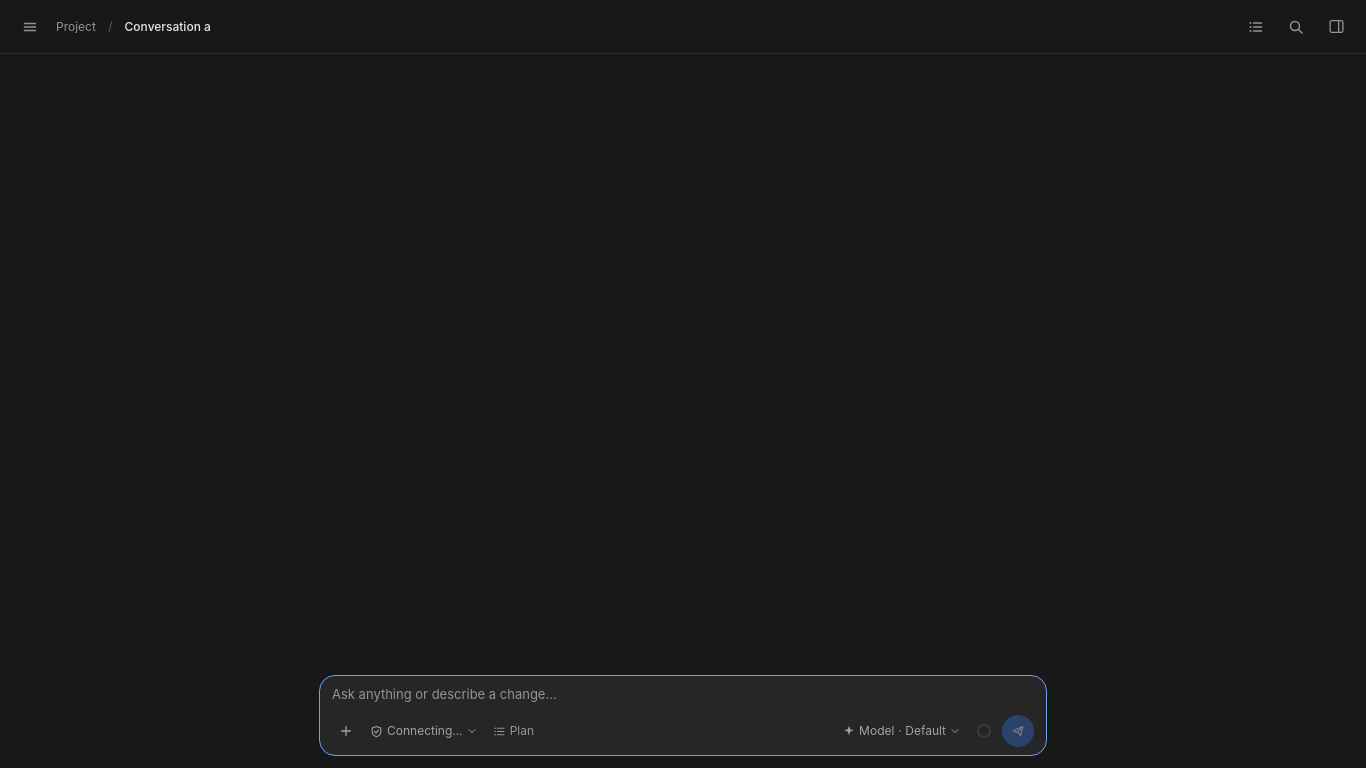
Scenario: marks externally changed open previews stale without replacing their body or composer draft
Type "retain draft" into the text box named "Chat input". click: (683,695)
box: [332,684,1034,706]
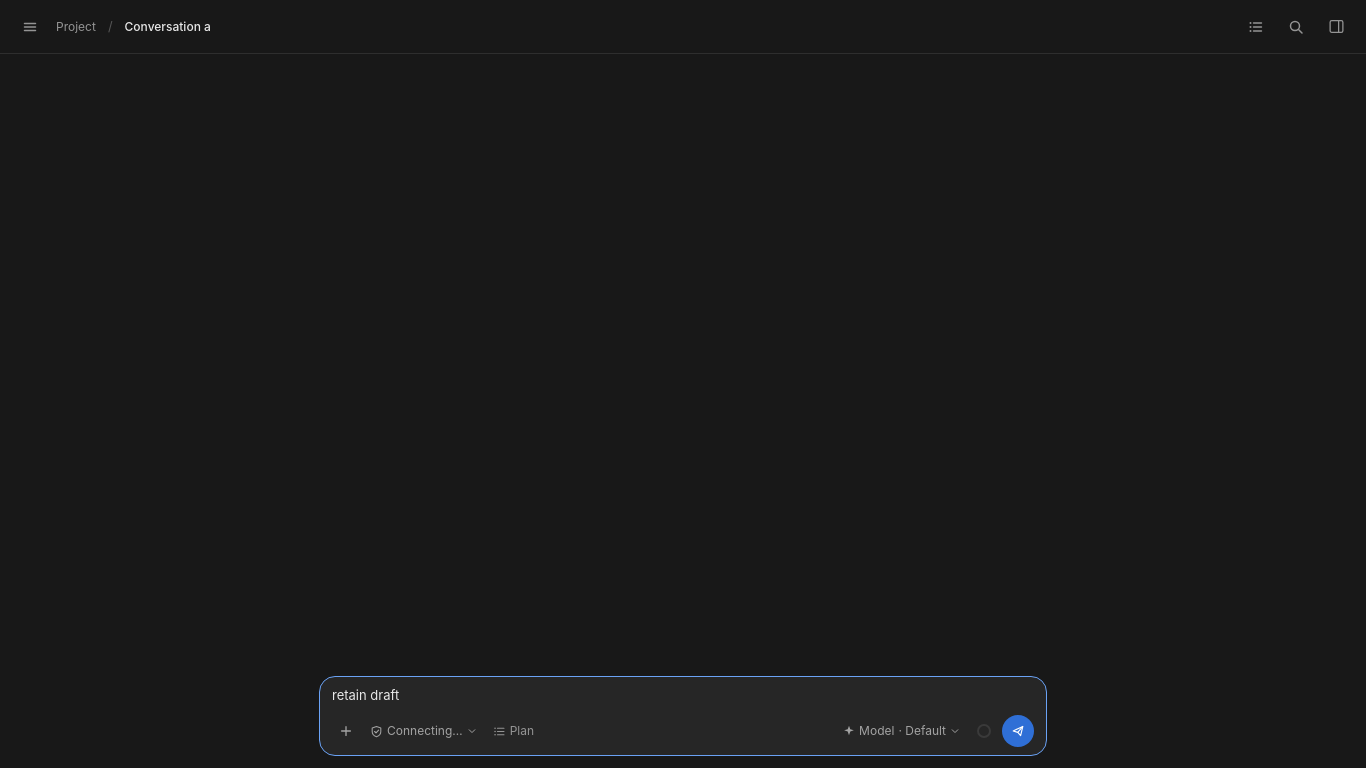
Click the button named "Open workspace". click: (1336,26)
box: [1322,12,1350,40]
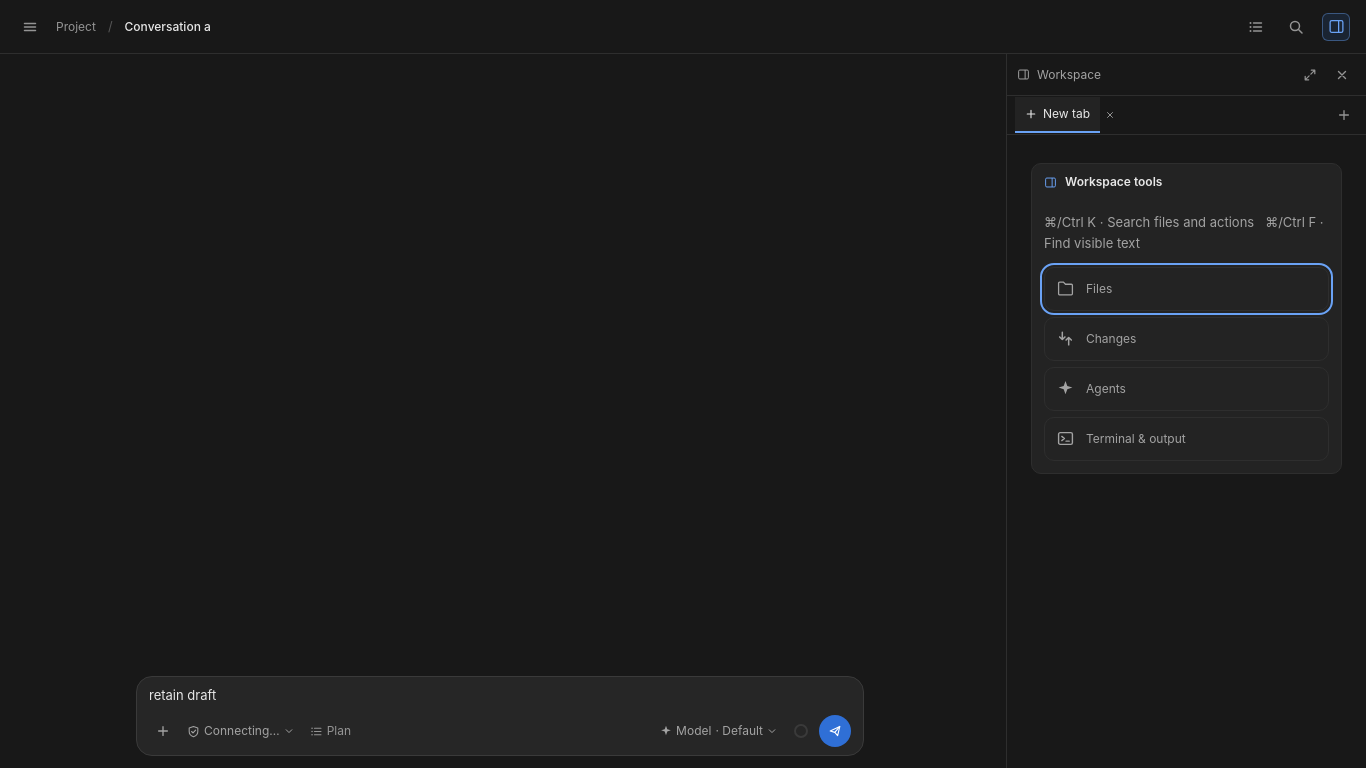
Click the button "Files". click: (1066,289)
box: [1044,267,1329,311]
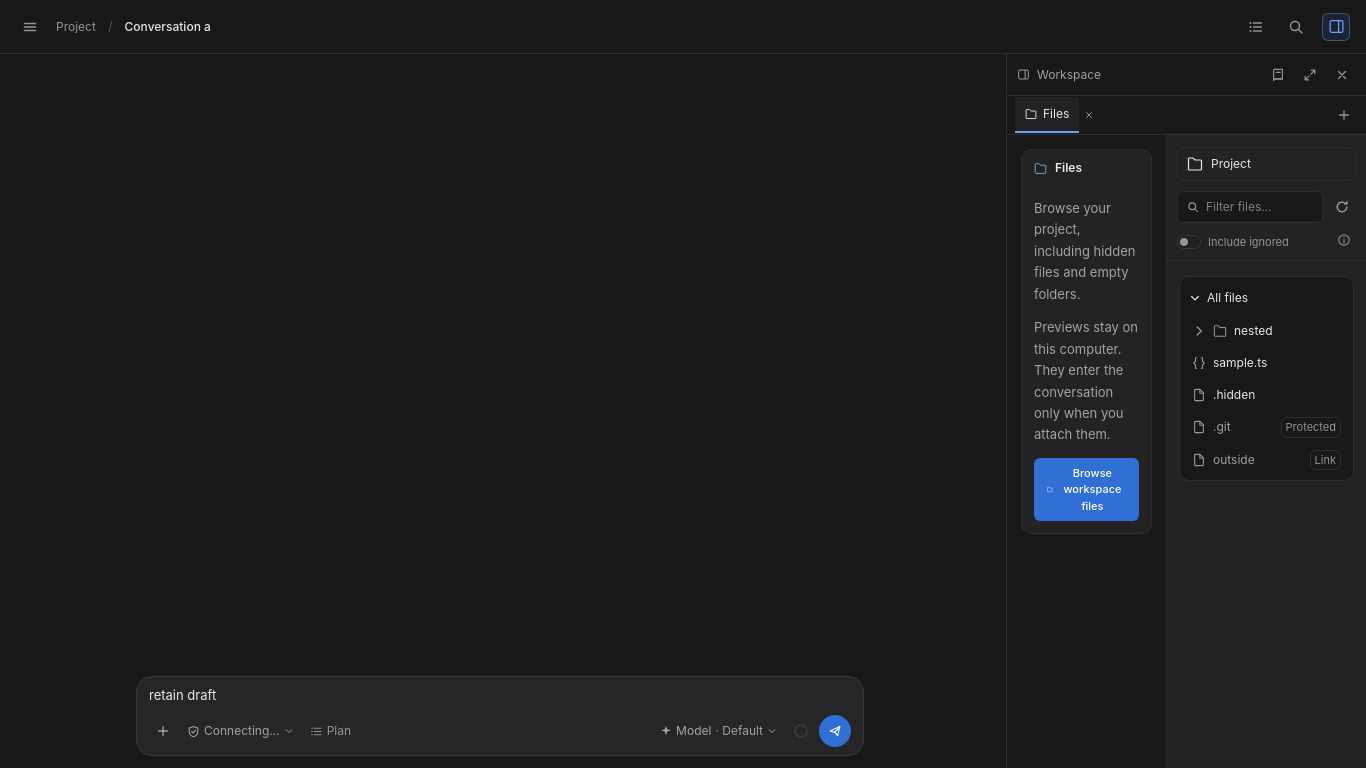
Click the button "sample.ts". click: (1266,363)
box: [1184,347,1349,379]
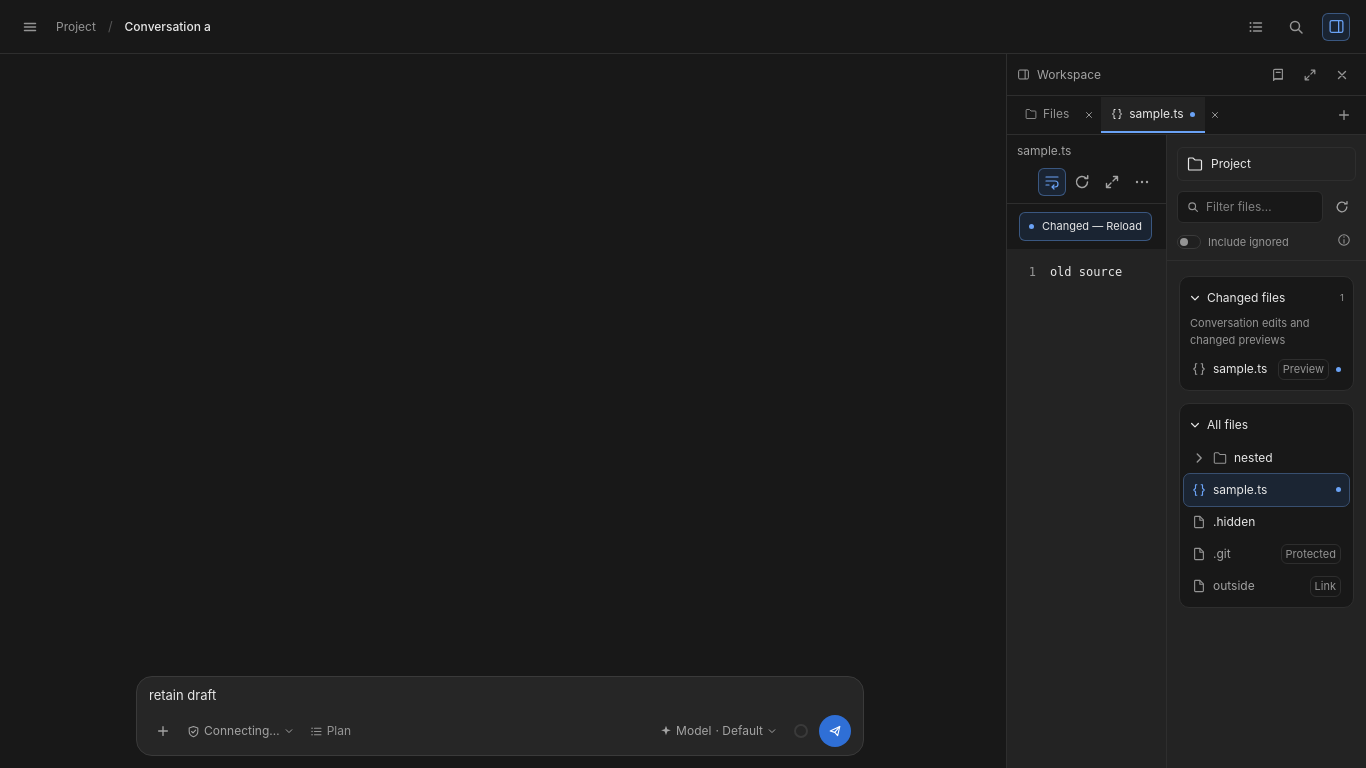
Expected: the button with aria-label "Reload changed preview" is shown, [1019,212,1152,240]
Expected: the text "old source" is shown, [1050,264,1122,278]
